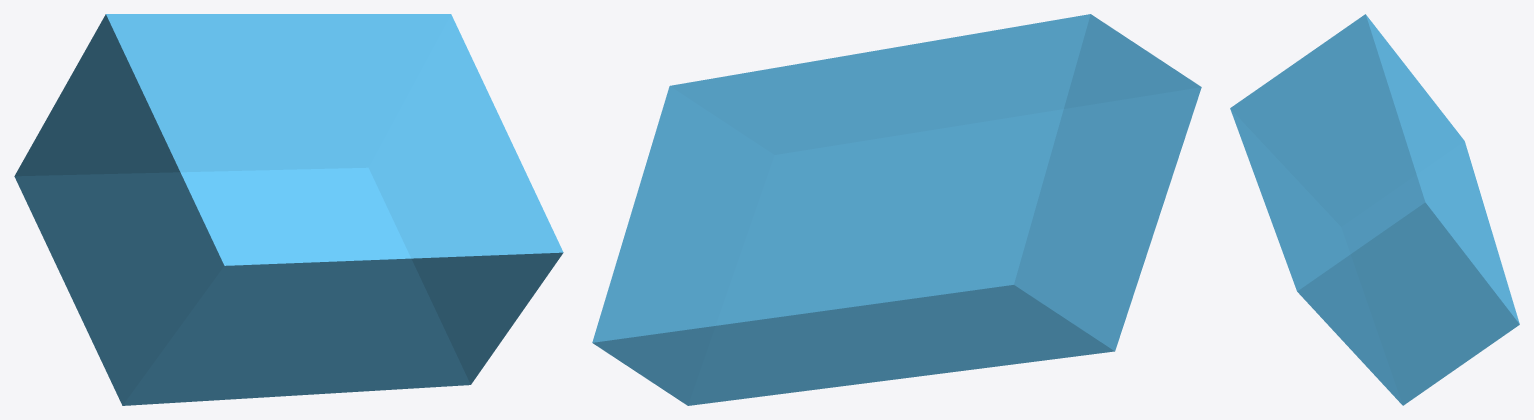
Rendered from Event_421364160_HErechit_36.fbx.
3 renders of one model, left to right at view 1: azimuth 30°, elevation 25°; view 2: azimuth 150°, elevation 25°; view 3: azimuth 270°, elevation 25°, orthographic. The views are drawn at different scales.
Parts seen in each view (by area): view 1: Model; view 2: Model; view 3: Model.
Boxes of the visible parts, <box> form: Model: <box>14,14,563,405</box>; Model: <box>592,14,1201,405</box>; Model: <box>1230,14,1519,405</box>.
Bounding box in the file's own units: 0.6305 × 0.7366 × 0.6885.
